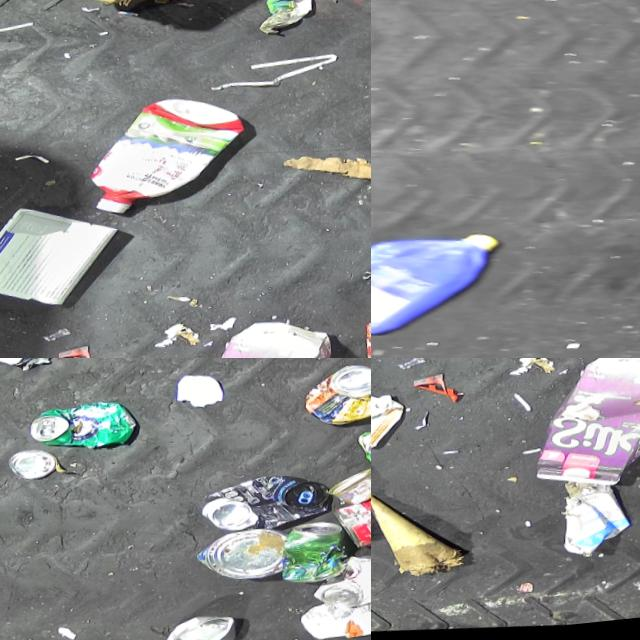can: (198, 472, 330, 547), (26, 397, 136, 459), (193, 528, 284, 593), (301, 366, 371, 439), (279, 523, 349, 592), (311, 556, 371, 621), (331, 480, 371, 566), (155, 614, 234, 640), (327, 471, 371, 517), (6, 448, 56, 485), (353, 434, 371, 497)
non_white_jug: (371, 220, 516, 358), (533, 358, 640, 503), (371, 375, 401, 462)
